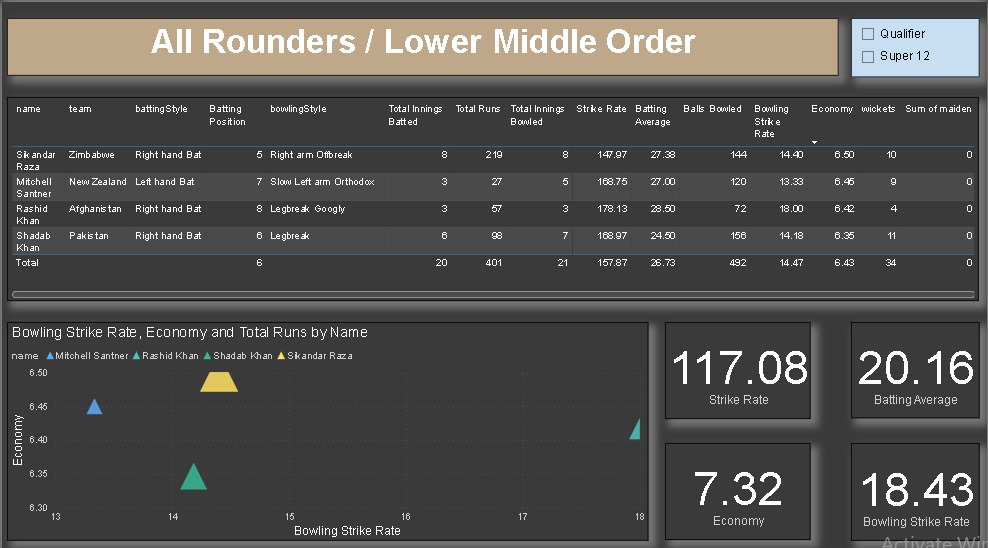

What the dashboard file says about the page in this screenshot:
{"tool":"powerbi","page":{"name":"All Rounders / Lower Middle Order","canvas":[1280,720],"ordinal":3},"visuals":[{"type":"card","fields":{"Values":["Key_Measures.Strike Rate"]},"box":[860.9,415.6,189.4,126.2],"z":0},{"type":"card","fields":{"Values":["Key_Measures.Batting Average"]},"box":[1103,416.2,167,125.3],"z":1000},{"type":"card","fields":{"Values":["Key_Measures.Bowling Strike Rate"]},"box":[1103,573.1,167,126.7],"z":2000},{"type":"card","fields":{"Values":["Key_Measures.Economy"]},"box":[860.9,573.4,189.4,126.2],"z":3000},{"type":"tableEx","fields":{"Values":["dim_players.name","dim_players.team","dim_players.battingStyle","Key_Measures.Batting Position","dim_players.bowlingStyle","Key_Measures.Total Innings Batted","Key_Measures.Total Runs","Key_Measures.Total Innings Bowled","Key_Measures.Strike Rate","Key_Measures.Batting Average","Key_Measures.Balls Bowled","Key_Measures.Bowling Strike Rate"]},"box":[7,122.7,1262.5,264.8],"z":4000},{"type":"scatterChart","title":"Bowling Strike Rate, Economy and Total Runs by Name","fields":{"Category":["dim_players.name"],"Series":["dim_players.name"],"Size":["Key_Measures.Total Runs"],"X":["Key_Measures.Bowling Strike Rate"],"Y":["Key_Measures.Economy"]},"box":[7,415.6,832.9,284.1],"z":5000},{"type":"slicer","fields":{"Values":["dim_match_summary.stage"]},"box":[1102.9,21,166.6,77.2],"z":6000},{"type":"textbox","box":[7,21,1080.1,75.4],"z":7000}]}

Visuals, with their boxes in screenshot pixels (x1, y1, x2, y2), scaled from the page's 1280x720 canvas onto the 988x548 screenshot:
card - Key_Measures.Strike Rate: <region>665, 316, 811, 412</region>
card - Key_Measures.Batting Average: <region>851, 317, 980, 412</region>
card - Key_Measures.Bowling Strike Rate: <region>851, 436, 980, 533</region>
card - Key_Measures.Economy: <region>665, 436, 811, 532</region>
tableEx - dim_players.name x dim_players.team: <region>5, 93, 980, 295</region>
"Bowling Strike Rate, Economy and Total Runs by Name" scatterChart: <region>5, 316, 648, 533</region>
slicer - dim_match_summary.stage: <region>851, 16, 980, 75</region>
textbox: <region>5, 16, 839, 73</region>
